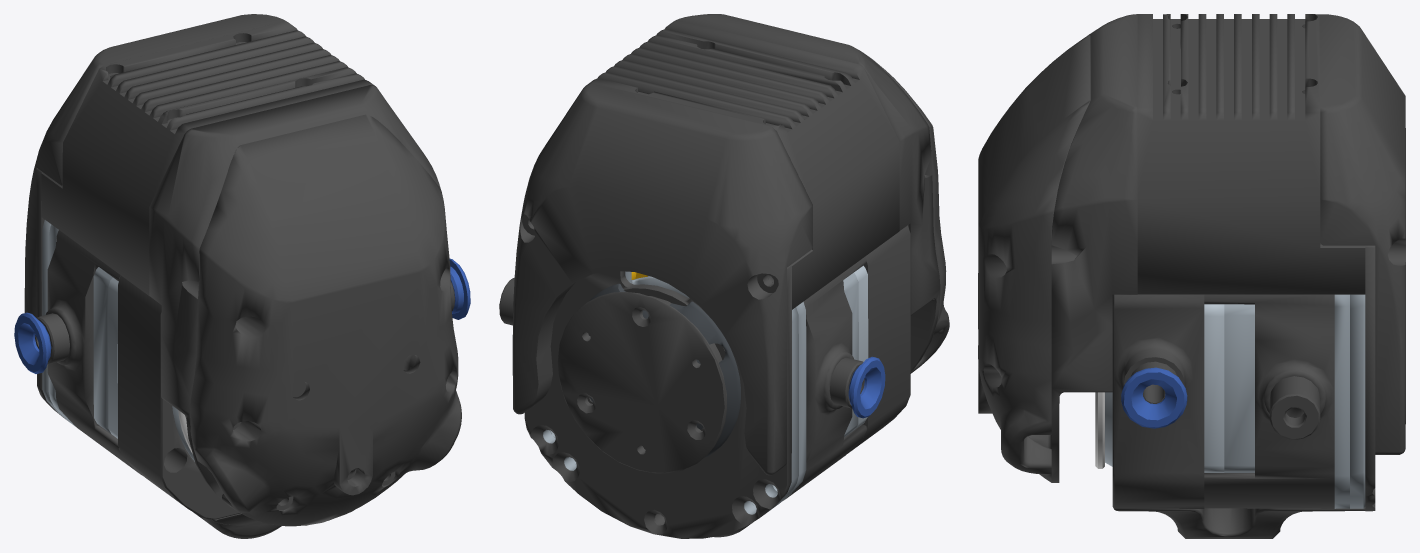
File: r_wrist_x_purdue.obj
3 views of the same model, side by side, from view 1: azimuth 30°, elevation 25°; view 2: azimuth 150°, elevation 25°; view 3: azimuth 270°, elevation 25° (orthographic). The views are drawn at different scales.
Visible parts, largest first — view 1: r_wrist_x_purdue; view 2: r_wrist_x_purdue; view 3: r_wrist_x_purdue.
Part boxes in pixels (x1=…): r_wrist_x_purdue: x1=14, y1=14, x2=470, y2=538; r_wrist_x_purdue: x1=499, y1=14, x2=949, y2=538; r_wrist_x_purdue: x1=978, y1=14, x2=1405, y2=538.
Size of the model in its own units: 0.0865 by 0.1025 by 0.0842.
